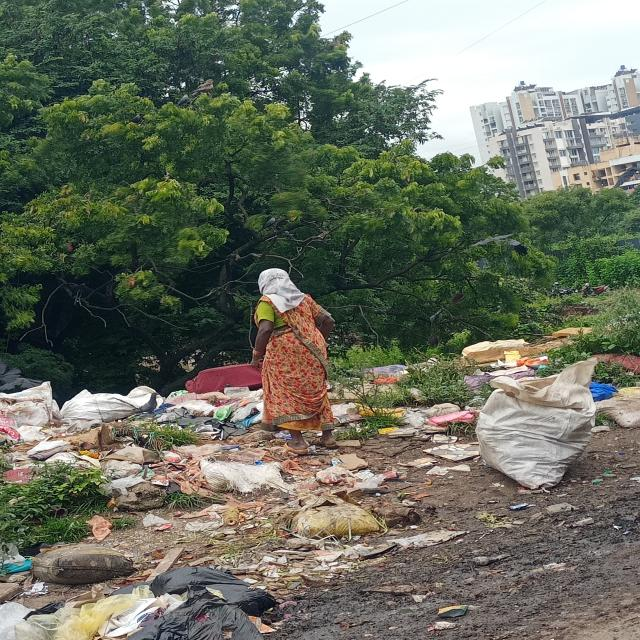garbage: (0, 376, 260, 502), (337, 346, 640, 436), (1, 541, 259, 640), (269, 463, 399, 561)
